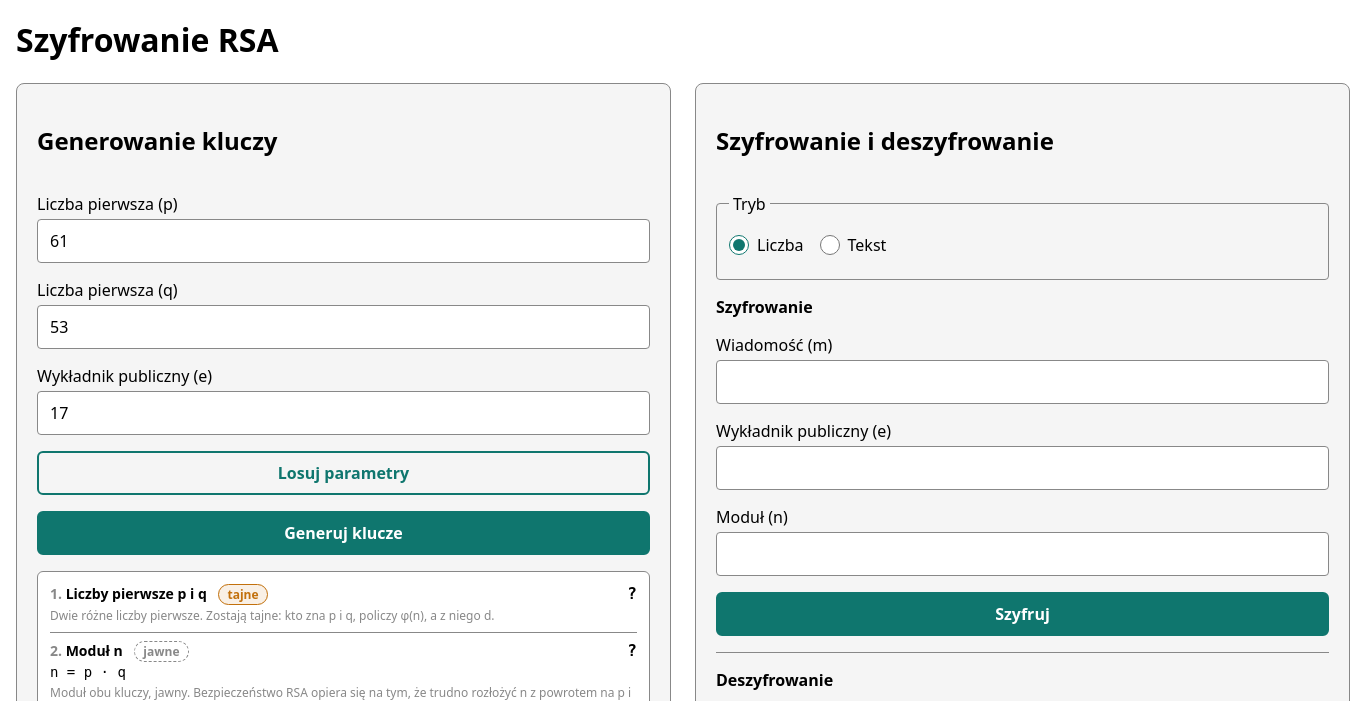
it: generowanie kluczy krok po kroku › losowanie czyści stary wynik, a nowy pokazuje wylosowane wartości
Click the button "Generuj klucze". click: (344, 533)
box: [37, 511, 650, 555]
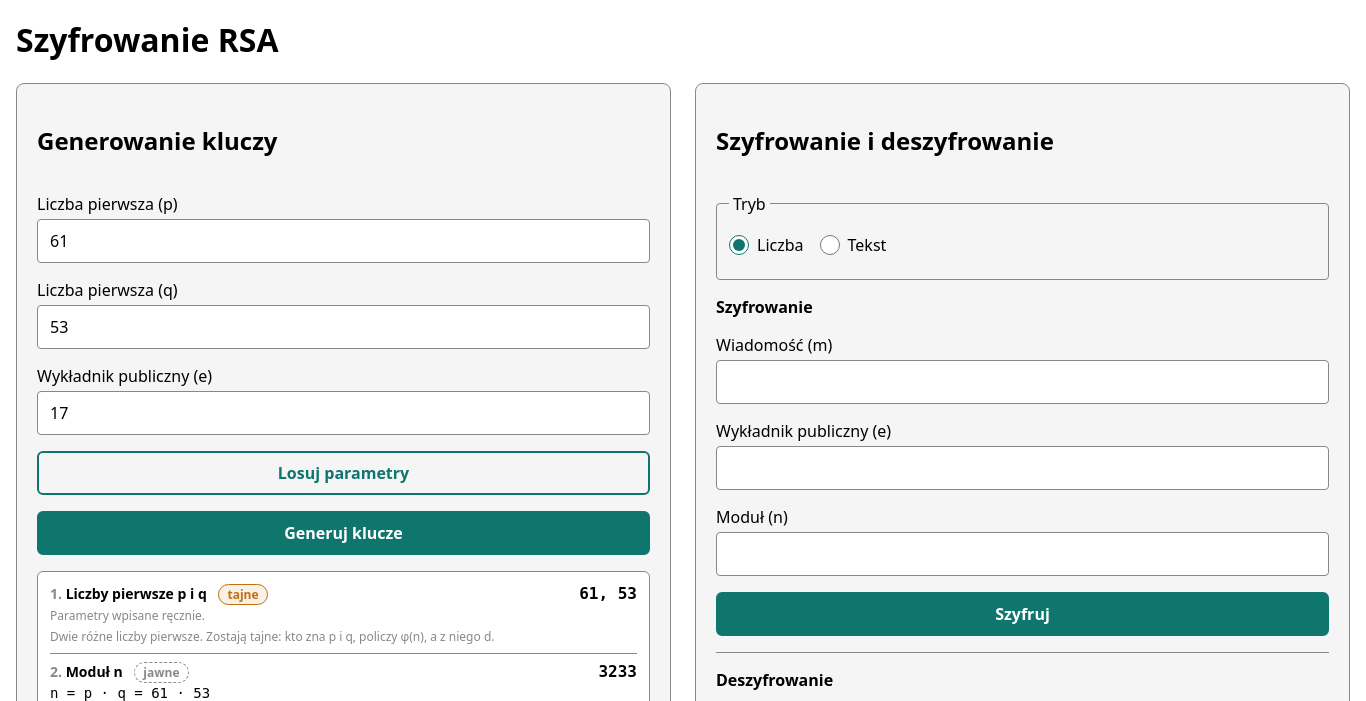
Click the button "Losuj parametry". click: (344, 473)
box: [37, 451, 650, 495]
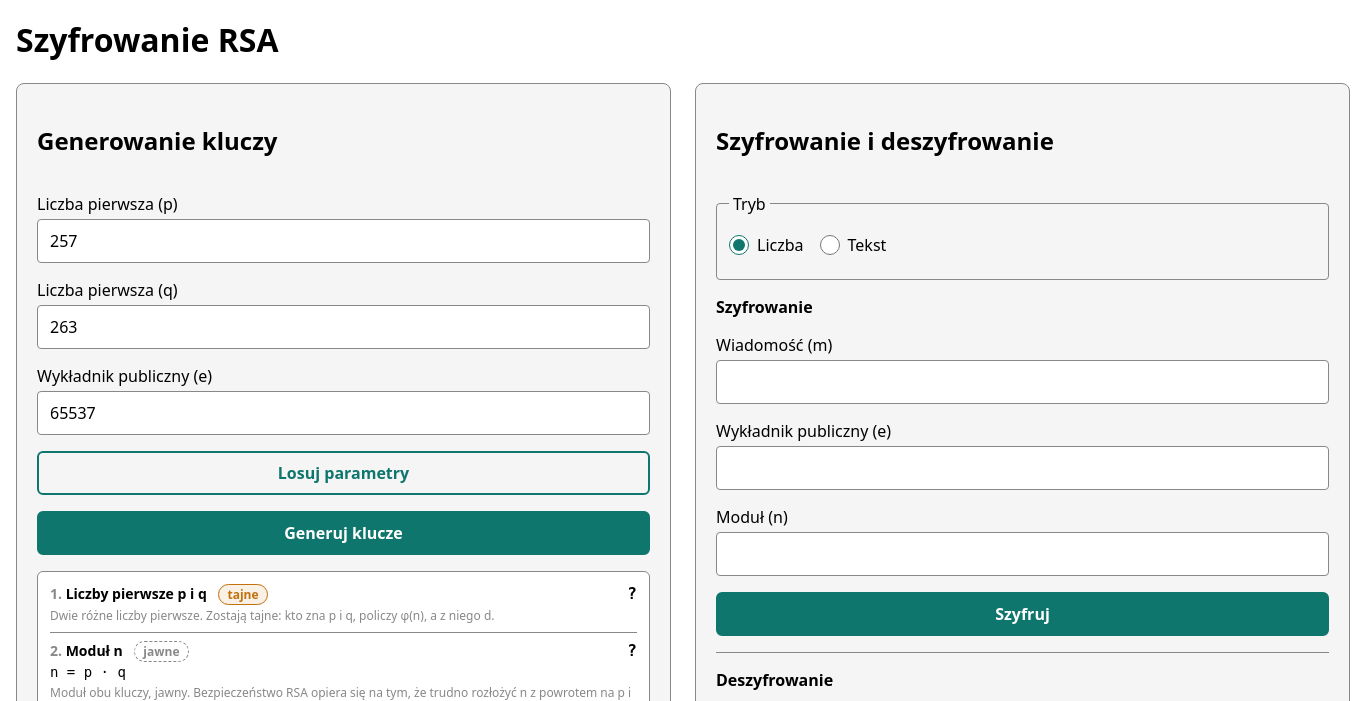
Expected: the field labelled "Liczba pierwsza (p)" holds "257", [37, 219, 650, 263]
Click the button "Generuj klucze". click: (344, 533)
box: [37, 511, 650, 555]
(page scrolled)
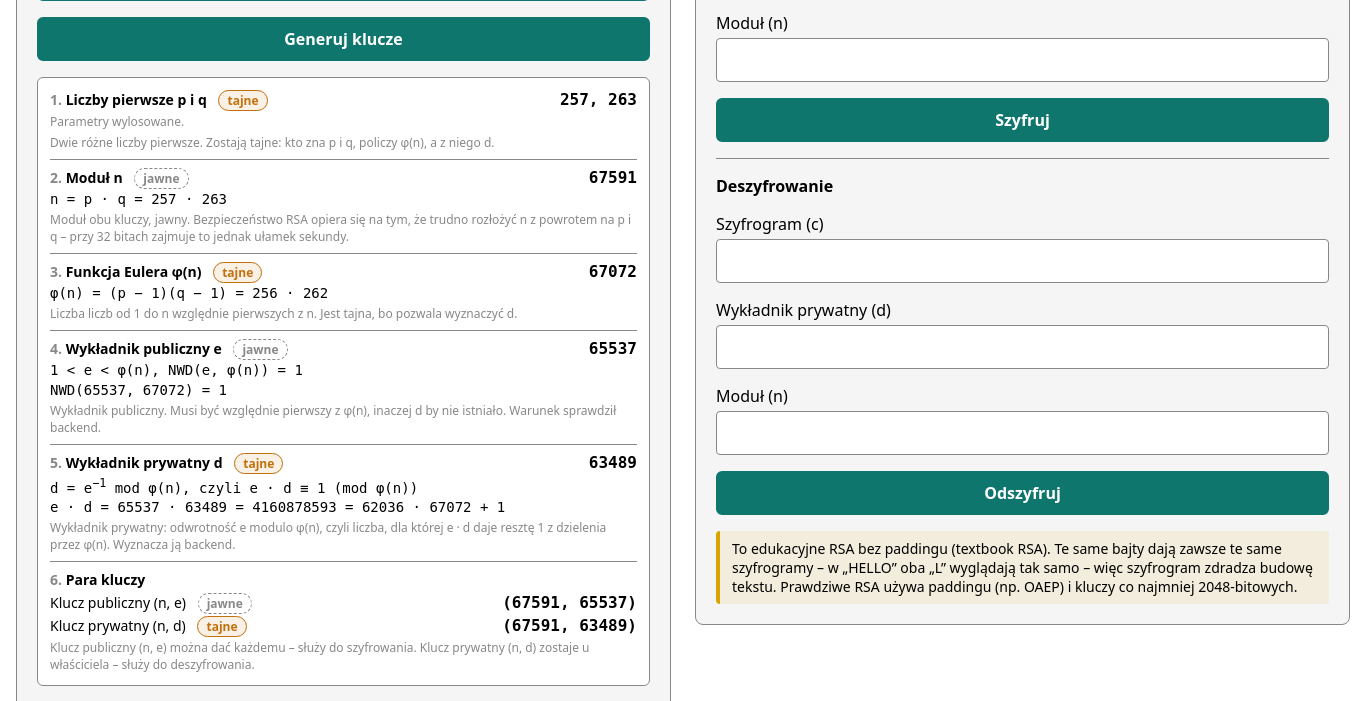
Expected: the list named "Kroki generowania kluczy" shows "n = p · q = 257 · 263", [37, 77, 650, 686]
Expected: the list named "Kroki generowania kluczy" shows "φ(n) = (p − 1)(q − 1) = 256 · 262", [37, 77, 650, 686]
Expected: the list named "Kroki generowania kluczy" shows "Parametry wylosowane.", [37, 77, 650, 686]
